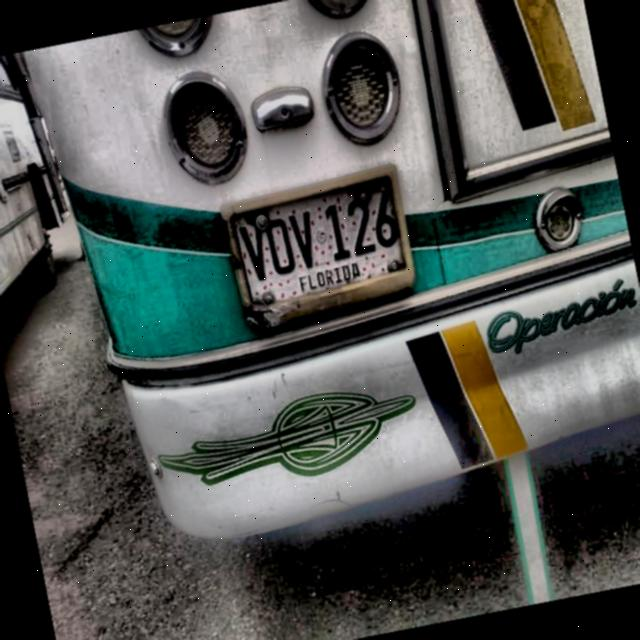1: (322, 202, 353, 264)
2: (344, 197, 380, 260)
6: (368, 190, 401, 250)
O: (264, 218, 298, 277)
V: (238, 222, 273, 284), (287, 210, 322, 272)
